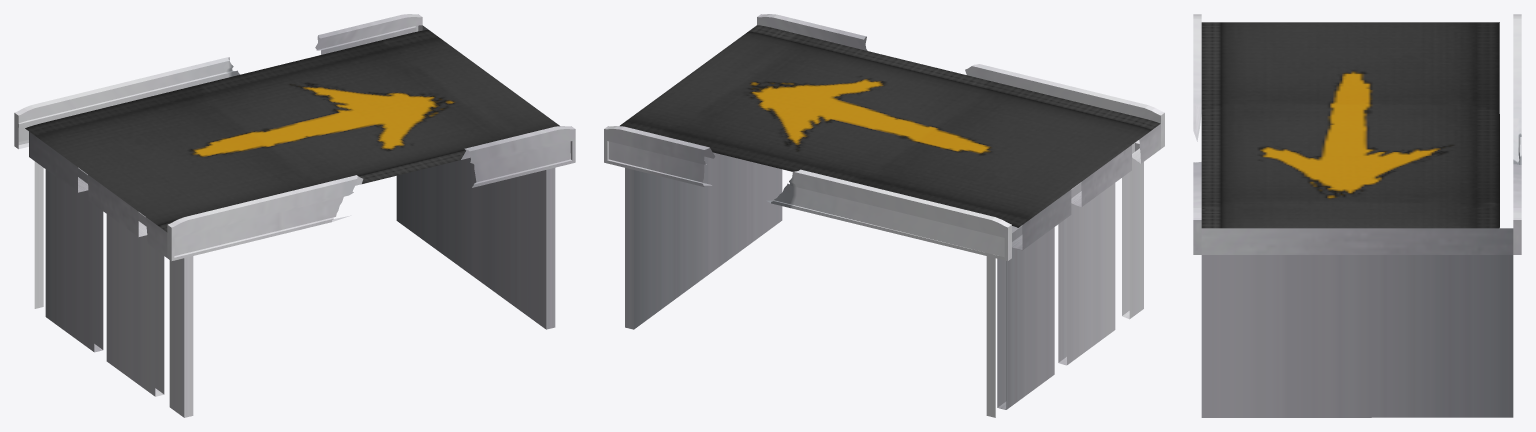
The model's file is Conveyor_2x1.fbx.
3 renders of one model, left to right at view 1: azimuth 30°, elevation 25°; view 2: azimuth 150°, elevation 25°; view 3: azimuth 270°, elevation 25°, orthographic. The views are drawn at different scales.
Visible parts, largest first — view 1: Convoy; view 2: Convoy; view 3: Convoy.
Part boxes in pixels (bbox=[...]): Convoy: bbox=[14, 14, 575, 417]; Convoy: bbox=[604, 14, 1164, 417]; Convoy: bbox=[1193, 14, 1521, 417].
Size of the model in its own units: 1.83 by 1.23 by 0.8701.
